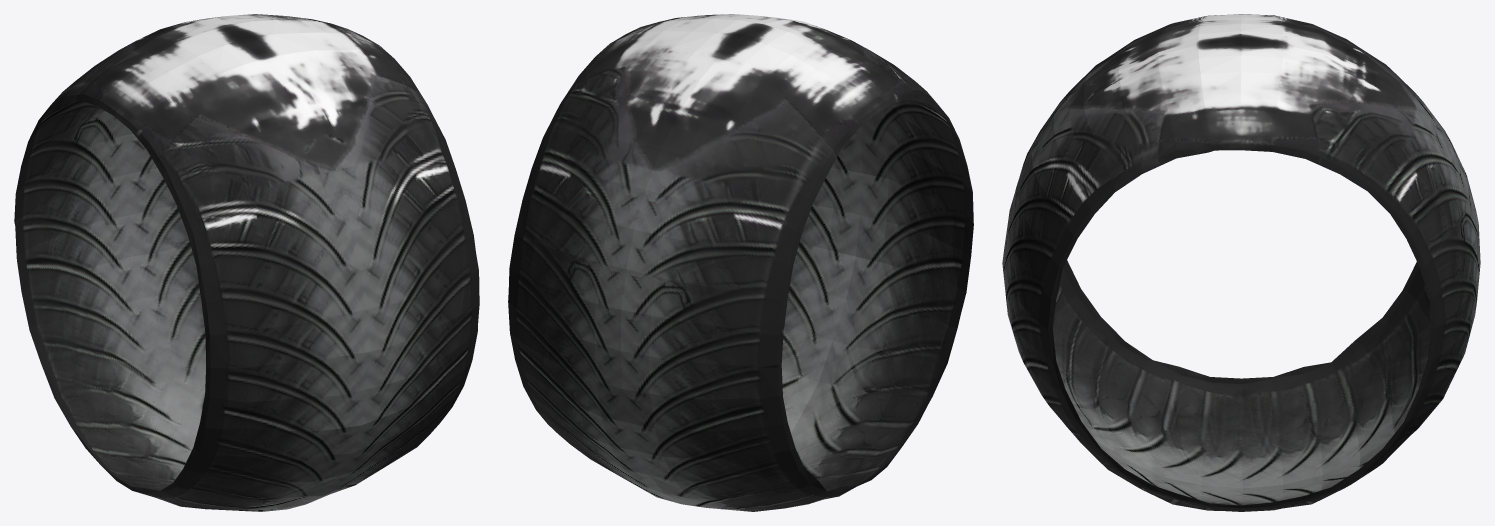
File: rollo_wheel.glb
The picture shows the model from 3 angles, left to right: view 1: azimuth 30°, elevation 25°; view 2: azimuth 150°, elevation 25°; view 3: azimuth 270°, elevation 25°; orthographic projection.
Parts seen in each view (by area): view 1: rollo_wheel; view 2: rollo_wheel; view 3: rollo_wheel.
Part boxes in pixels (x1,y1,x2,y2): rollo_wheel: (14, 14, 479, 511); rollo_wheel: (508, 14, 973, 511); rollo_wheel: (1002, 14, 1480, 511).
Bounding box in the file's own units: 0.332 × 0.5262 × 0.5098.
1 material, 1 textured.
